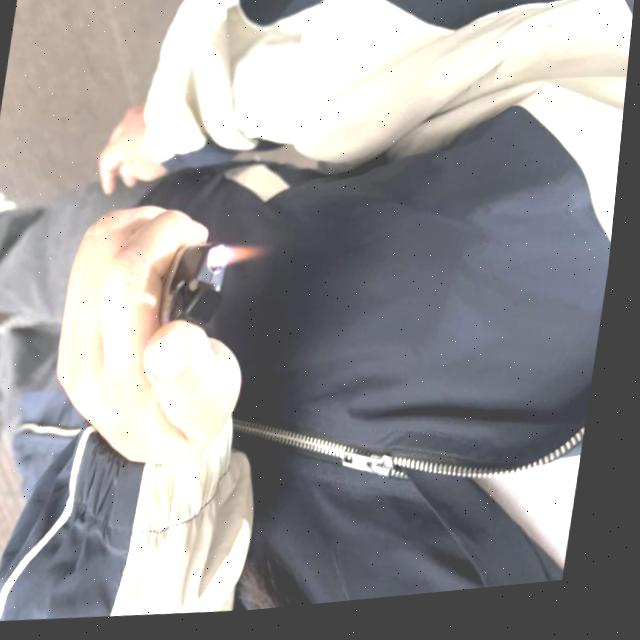Fire: (224, 246, 267, 272)
